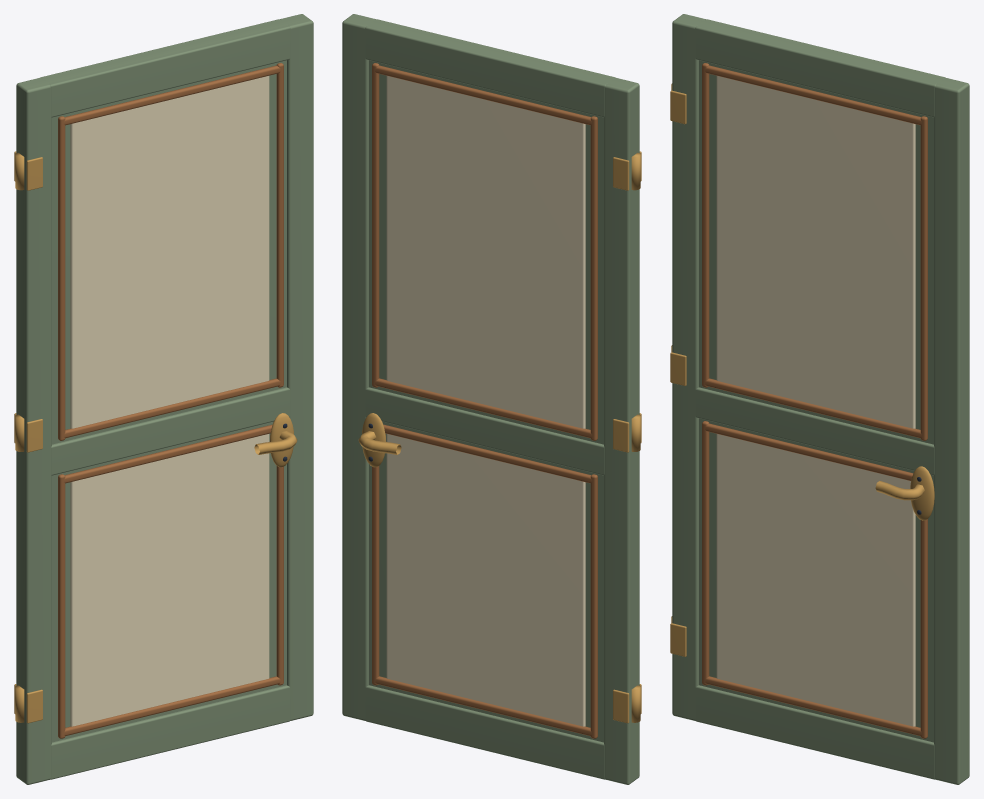
Rendered from door_leaf.glb.
3 views of the same model, side by side, from view 1: azimuth 30°, elevation 25°; view 2: azimuth 150°, elevation 25°; view 3: azimuth 330°, elevation 25° (orthographic).
Parts seen in each view (by area): view 1: House07_door_leaf; view 2: House07_door_leaf; view 3: House07_door_leaf.
Part boxes in pixels (<box>): House07_door_leaf: <box>14,14,313,784</box>; House07_door_leaf: <box>342,14,641,784</box>; House07_door_leaf: <box>670,14,969,784</box>.
Bounding box in the file's own units: 1.02 × 2.31 × 0.2726.
